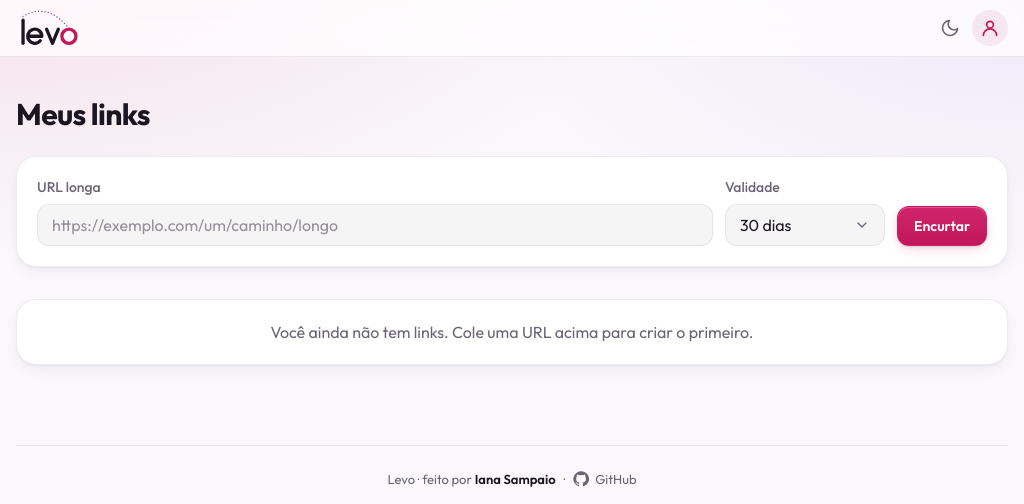
Test: menu de perfil › mostra o e-mail, o link da conta e "Sair"; Esc fecha e devolve o foco
The image size is (1024, 504).
Click the button named "Menu da conta" at coordinates (990, 28), box [972,10,1008,46]
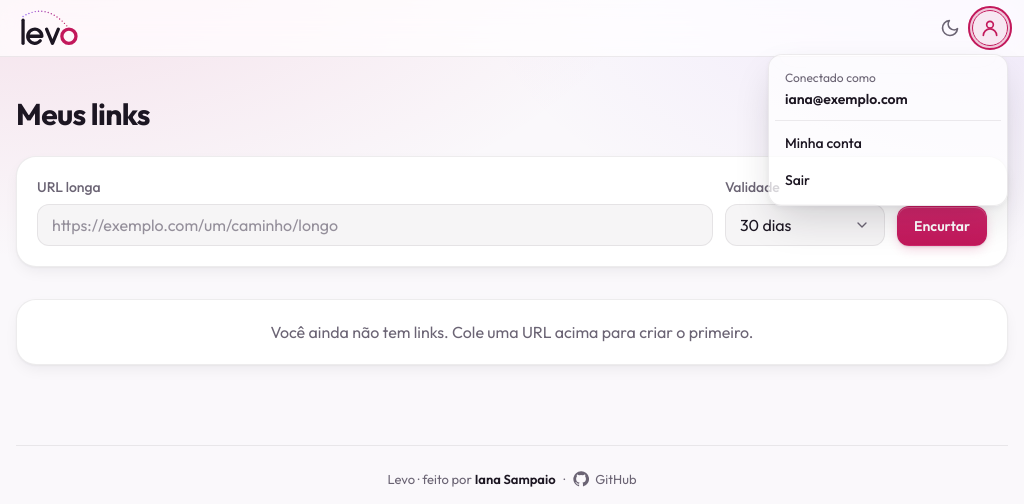
Expected: the button named "Menu da conta" is expanded, [972,10,1008,46]
Expected: the text "iana@exemplo.com" is shown, [785,90,908,108]
Expected: the button "Sair" is shown, [775,162,1001,199]
Press Escape
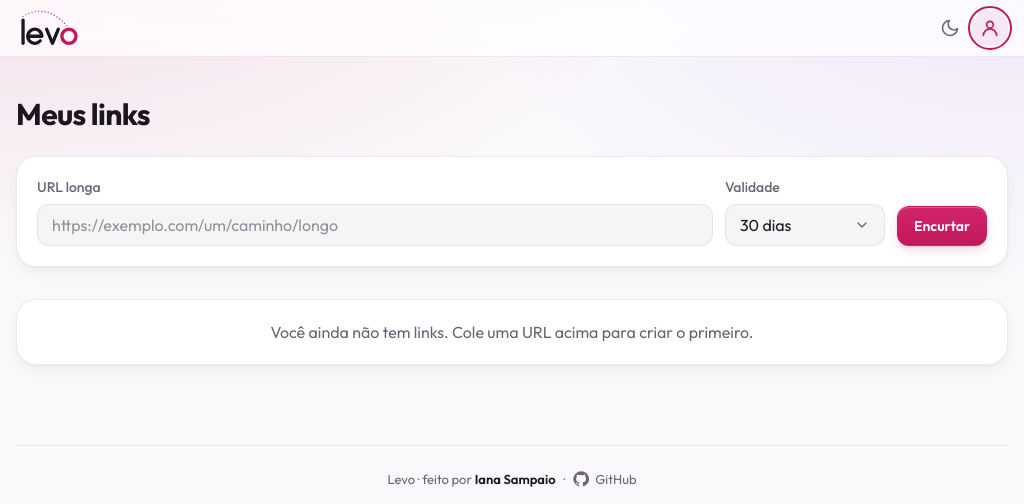
Expected: the text "iana@exemplo.com" is gone
